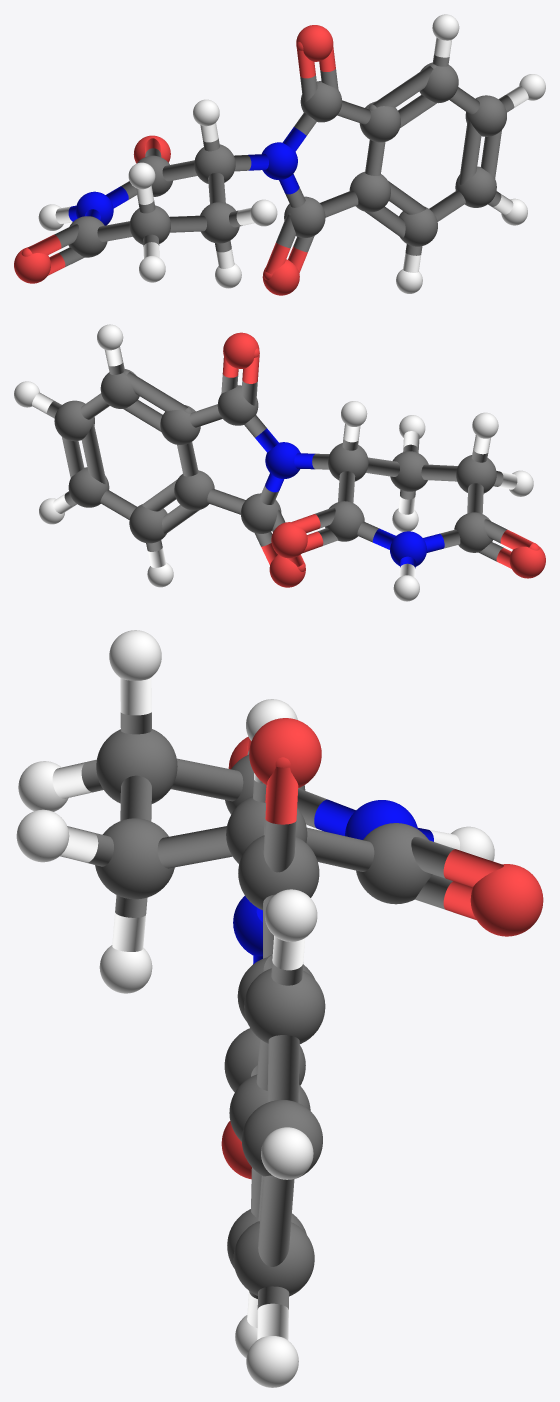
The model's file is thalidomide.glb.
3 renders of one model, top to bottom at view 1: azimuth 30°, elevation 25°; view 2: azimuth 150°, elevation 25°; view 3: azimuth 270°, elevation 25°, orthographic. The views are drawn at different scales.
Visible parts, largest first — view 1: thalidomide; view 2: thalidomide; view 3: thalidomide.
Boxes of the visible parts, x1,y1,x2,y2 form: thalidomide: (14,14,545,295); thalidomide: (14,324,545,601); thalidomide: (16,630,543,1387).
Size of the model in its own units: 11.6 by 5.89 by 5.06.
